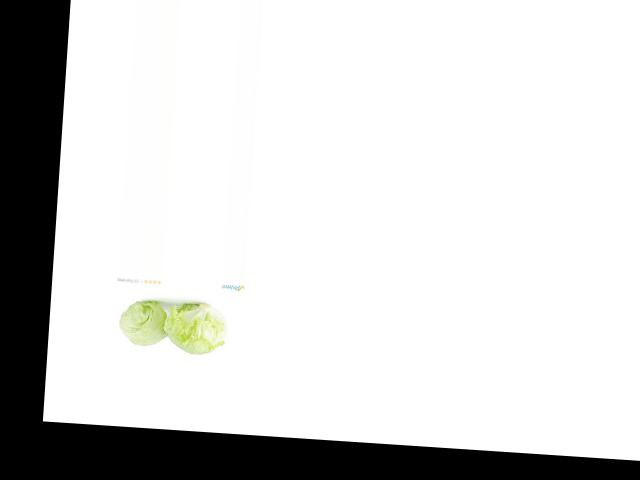lettuce: (116, 288, 183, 348)
